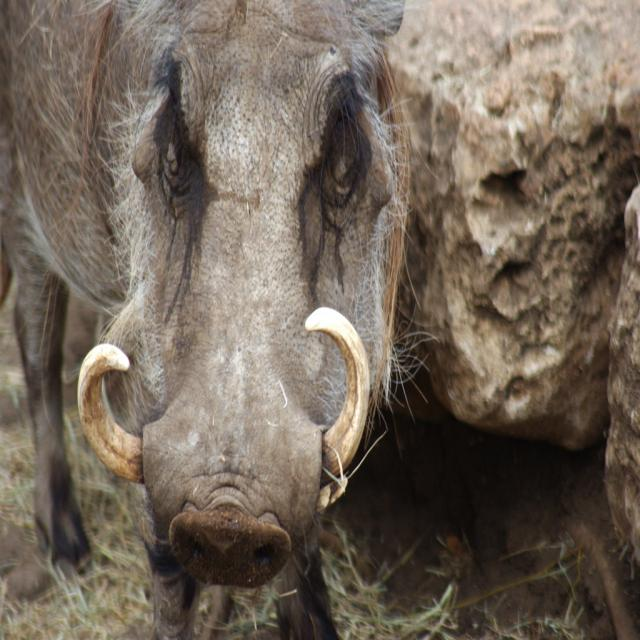Pig: (0, 0, 440, 640)
